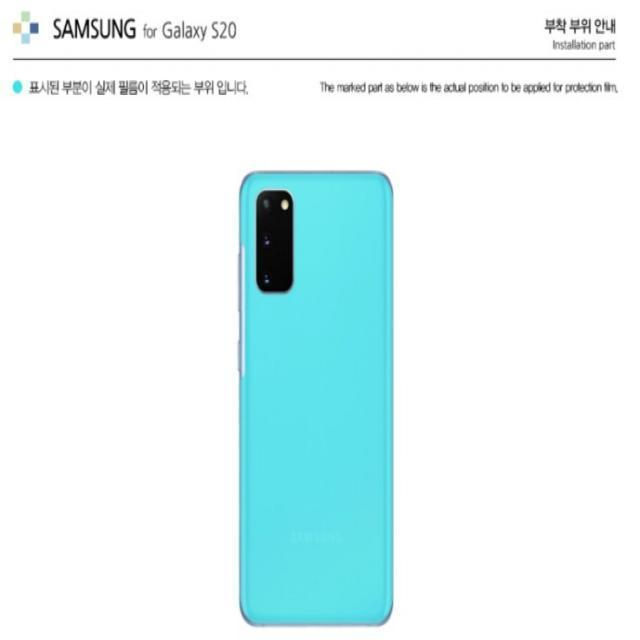phone: (238, 167, 393, 628)
